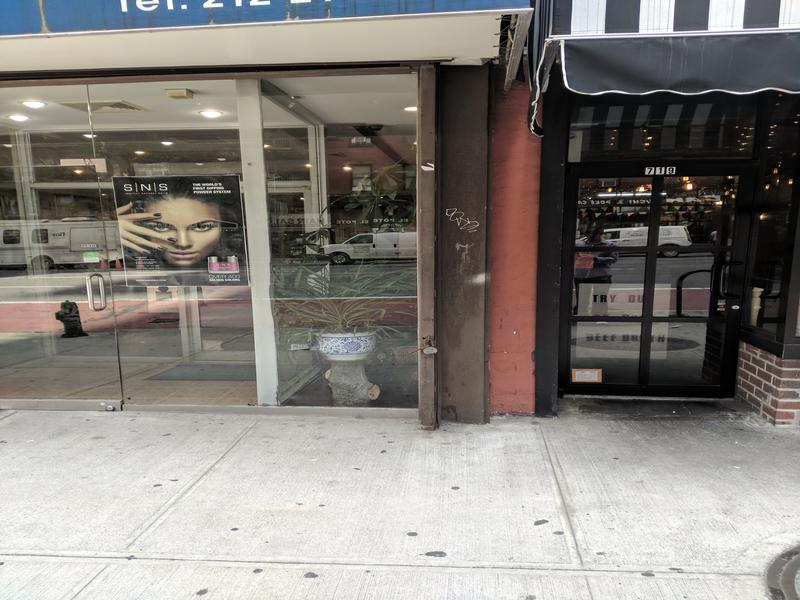door: (559, 151, 756, 406)
